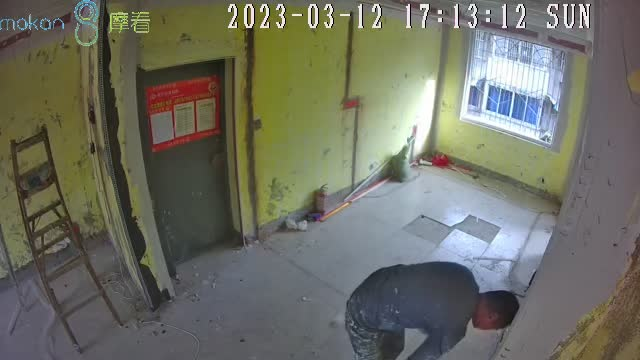people: (345, 261, 520, 360)
window: (458, 27, 563, 147)
